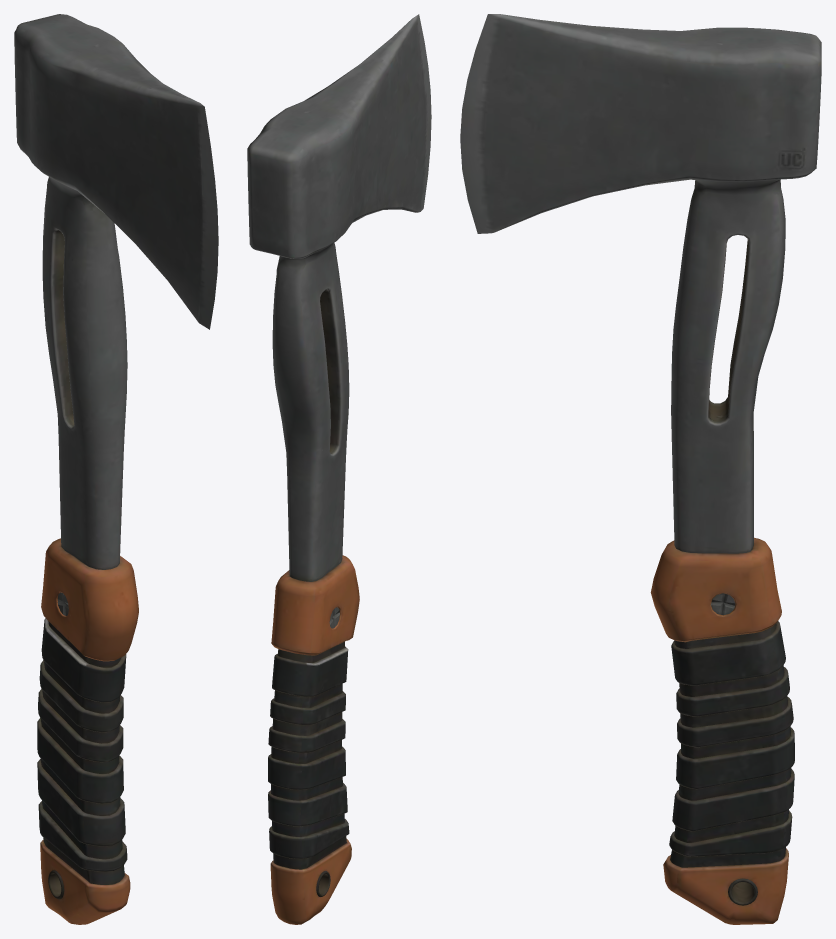
The model's file is hatchet.gltf.
3 renders of one model, left to right at view 1: azimuth 30°, elevation 25°; view 2: azimuth 150°, elevation 25°; view 3: azimuth 270°, elevation 25°, orthographic. The views are drawn at different scales.
Visible parts, largest first — view 1: hatchet; view 2: hatchet; view 3: hatchet.
Part boxes in pixels (x1,y1,x2,y2): hatchet: (14,14,218,924); hatchet: (247,14,431,924); hatchet: (460,14,821,924).
Bounding box in the file's own units: 0.026 × 0.2887 × 0.1043.
Materials: 1 (1 with a texture image).
